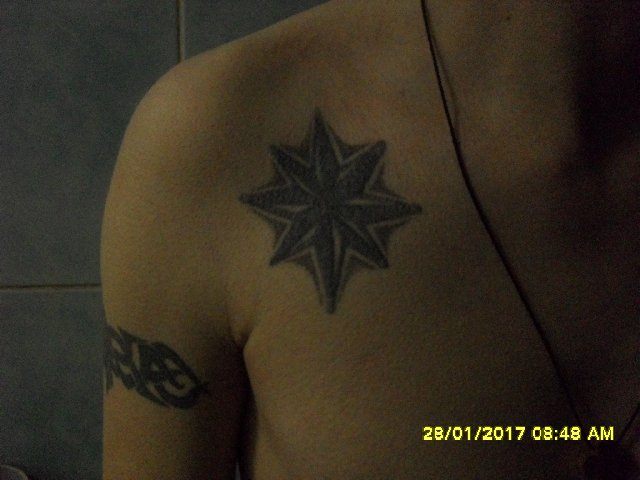tatu4_zvezda: (239, 108, 424, 316)
